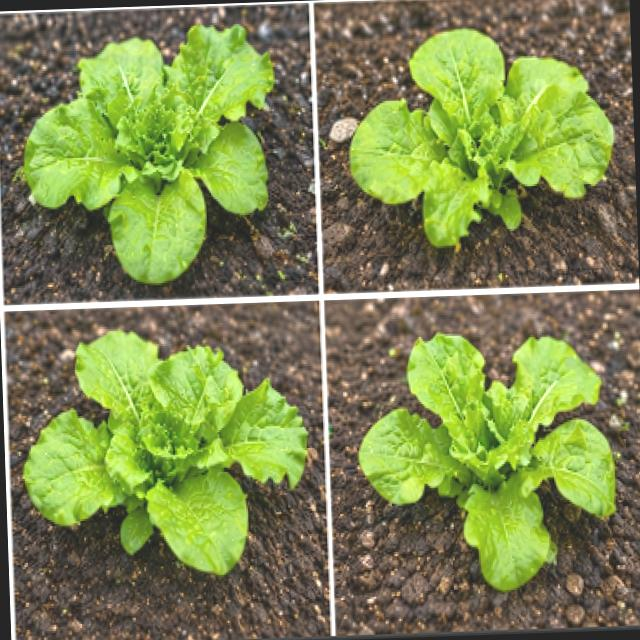inmadura: (22, 330, 305, 572), (358, 333, 612, 590), (23, 25, 271, 281), (349, 28, 611, 246)
